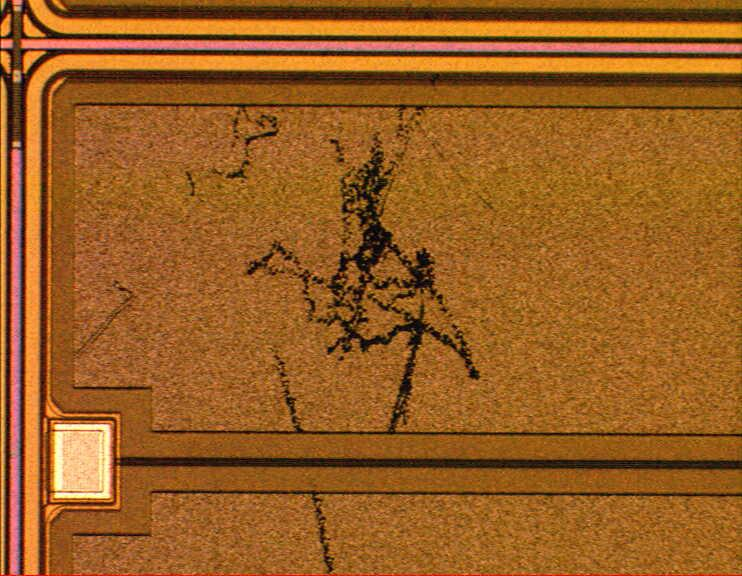SCRATCH: (61, 74, 506, 575)
